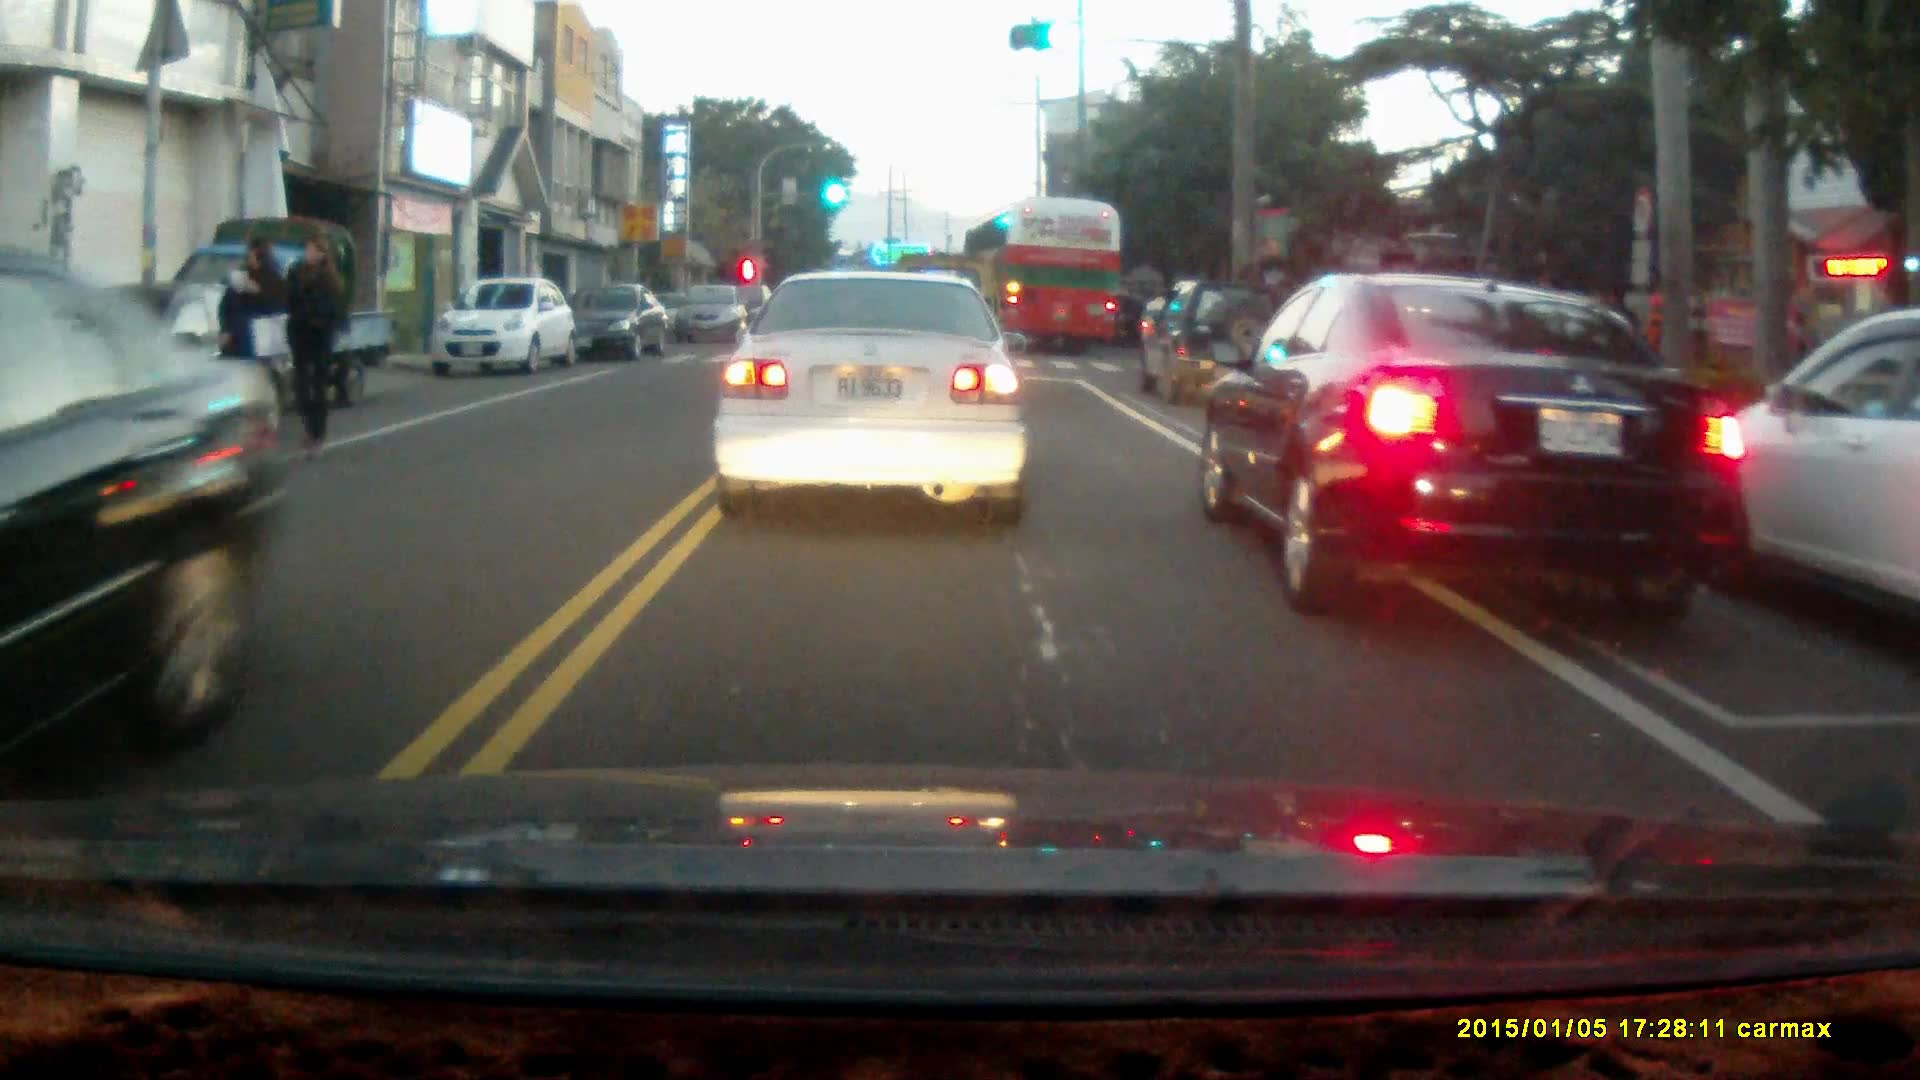pedestrian: (217, 236, 289, 454), (284, 235, 341, 445)
vehicle: (1200, 274, 1751, 608), (1, 263, 254, 796), (710, 265, 1030, 525), (1667, 306, 1920, 608), (161, 213, 405, 411), (963, 200, 1121, 358), (1145, 279, 1283, 405), (434, 279, 582, 378), (564, 278, 673, 365), (675, 286, 755, 344)
